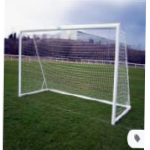goals: (17, 22, 131, 126)
